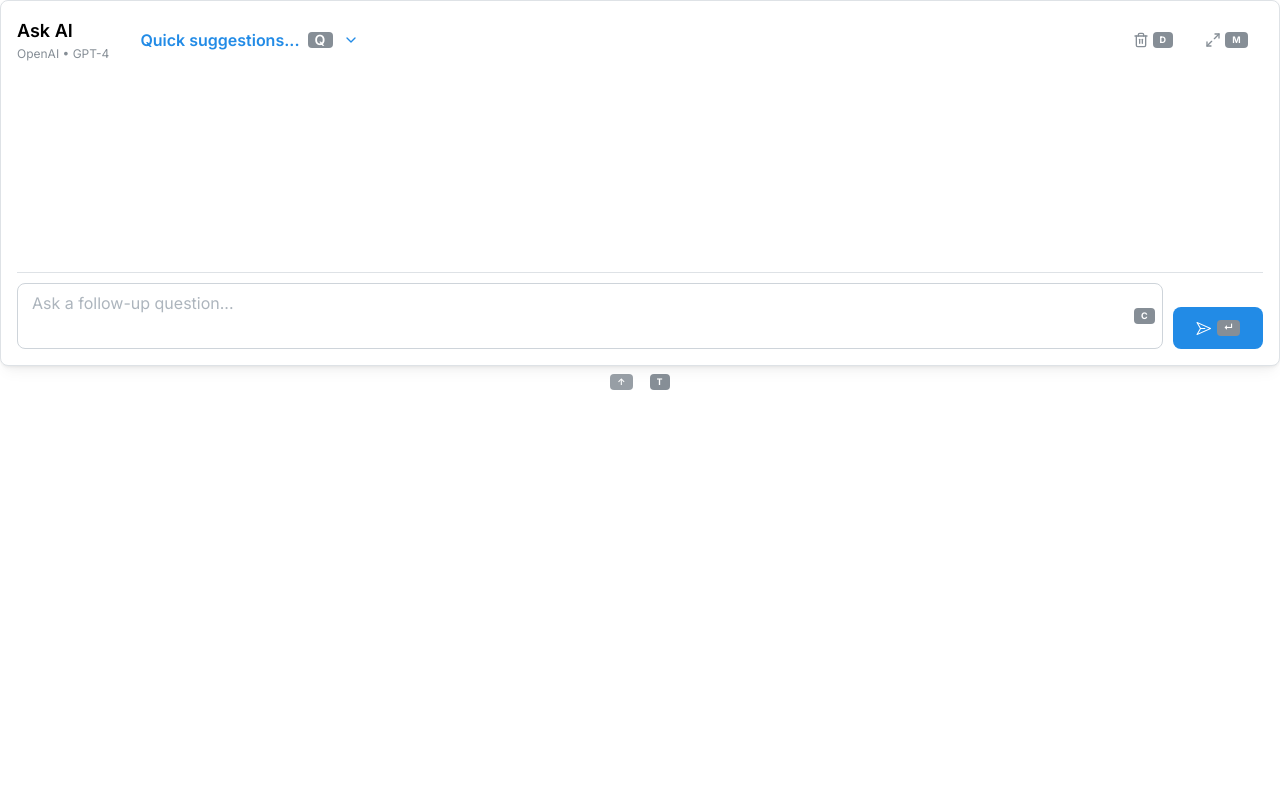
Test case: Chat Component › closes suggestions dropdown when clicking outside
The width and height of the screenshot is (1280, 800).
Click the button "Quick suggestions... Q" at (247, 40), box [125,25,369,55]
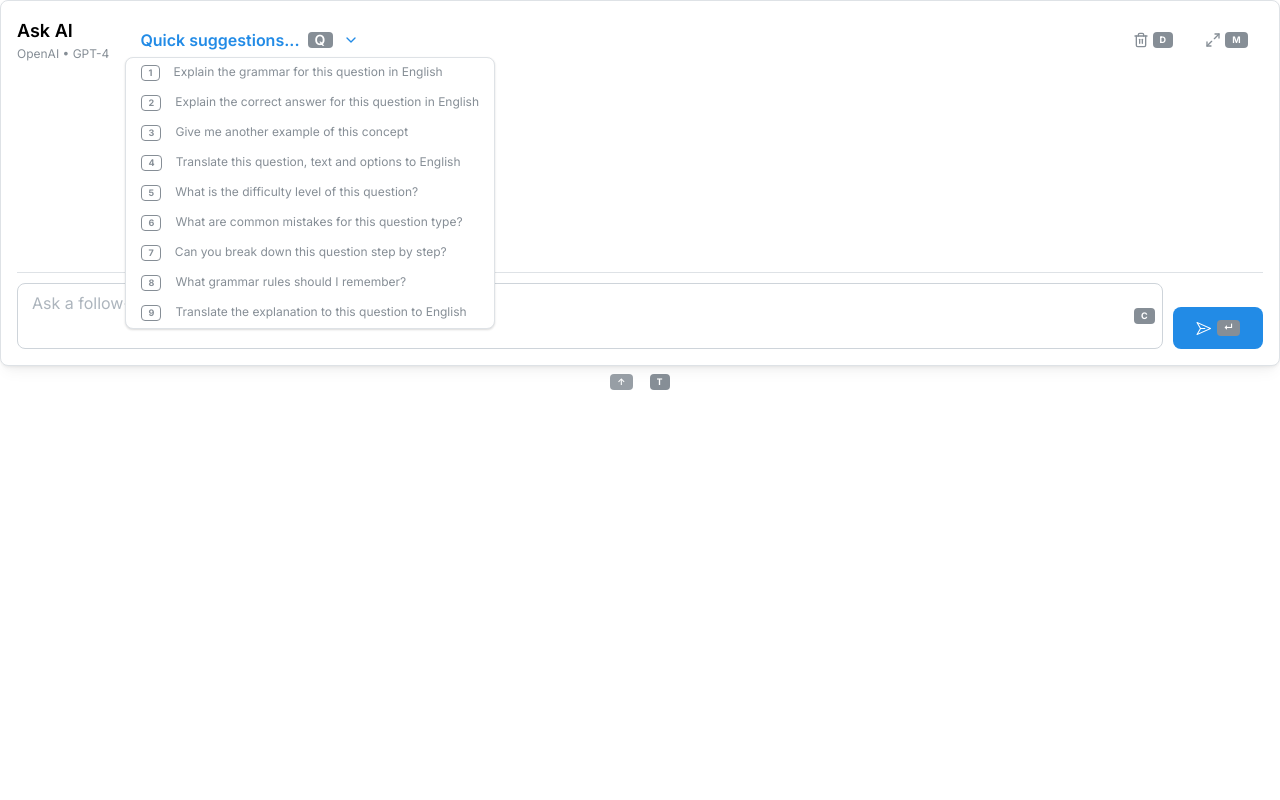
Now the text "Explain the grammar for this question in English" is shown, box [174,64,479,81]
Click outside the dropdown
Press the mouse on the element that starts with "Ask AI" at (640, 400), box [0,0,1279,799]
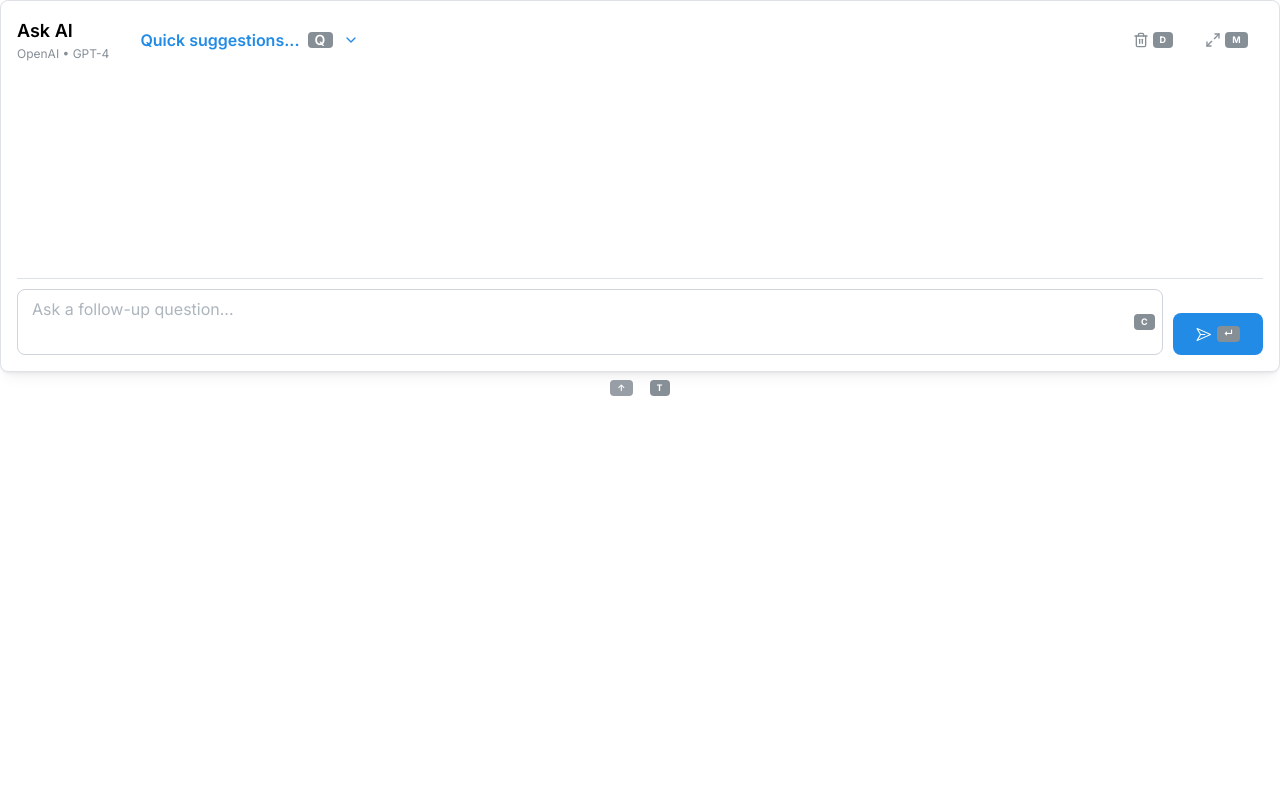
Now the button "Explain the grammar for this question in English" is gone
